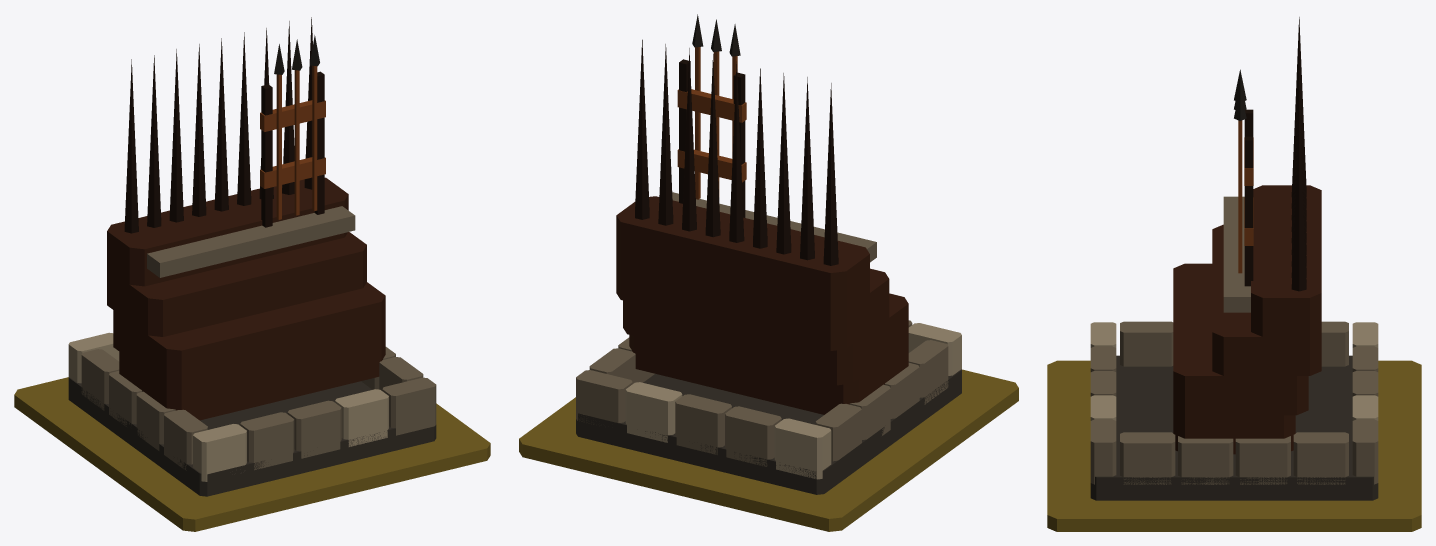
File: rampart_t4.glb
The picture shows the model from 3 angles, left to right: view 1: azimuth 30°, elevation 25°; view 2: azimuth 150°, elevation 25°; view 3: azimuth 270°, elevation 25°; orthographic projection. The views are drawn at different scales.
Parts seen in each view (by area): view 1: MMR | rampart | T04 Architecture.001, MMR | rampart | Tier 04 Ground.001; view 2: MMR | rampart | T04 Architecture.001, MMR | rampart | Tier 04 Ground.001; view 3: MMR | rampart | T04 Architecture.001, MMR | rampart | Tier 04 Ground.001.
Part boxes in pixels (box(x1,y1,x2,y2)): MMR | rampart | T04 Architecture.001: box(68, 17, 436, 496); MMR | rampart | Tier 04 Ground.001: box(14, 377, 490, 531); MMR | rampart | T04 Architecture.001: box(576, 14, 961, 494); MMR | rampart | Tier 04 Ground.001: box(519, 369, 1018, 531); MMR | rampart | T04 Architecture.001: box(1090, 17, 1378, 500); MMR | rampart | Tier 04 Ground.001: box(1047, 360, 1421, 531).
Bounding box in the file's own units: 1.3 × 1.53 × 1.3.
1 material, 1 textured.
